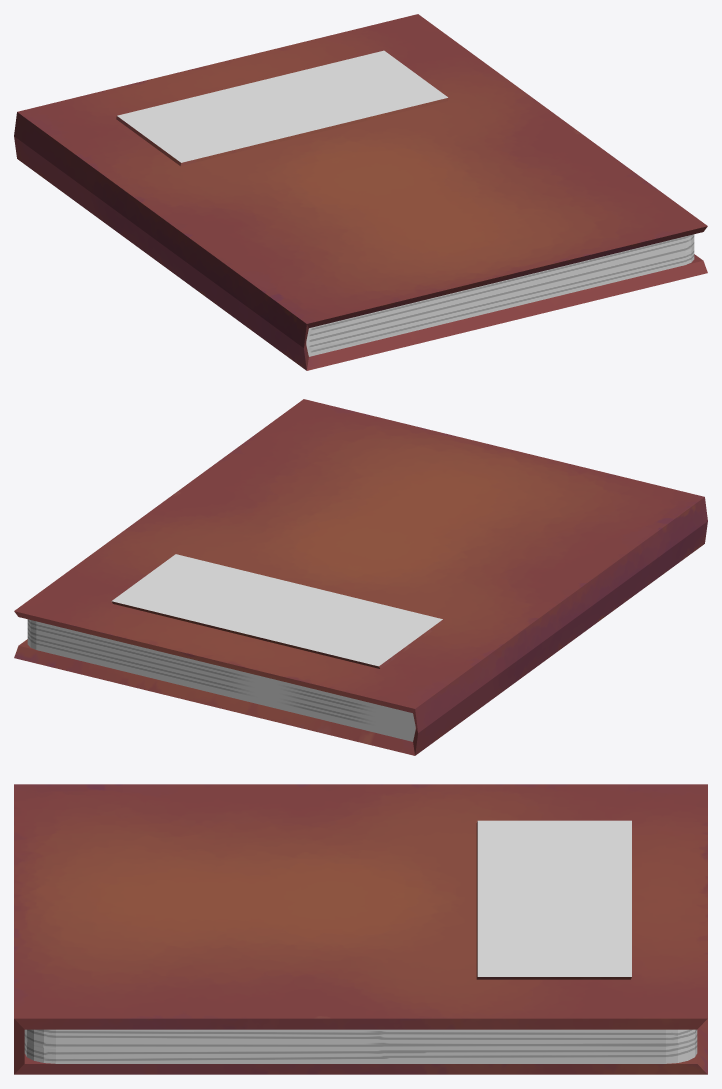
Rendered from Dark_Book.fbx.
The picture shows the model from 3 angles, top to bottom: view 1: azimuth 30°, elevation 25°; view 2: azimuth 150°, elevation 25°; view 3: azimuth 270°, elevation 25°; orthographic projection. The views are drawn at different scales.
Parts seen in each view (by area): view 1: book.001, book inside.001; view 2: book.001, book inside.001; view 3: book.001, book inside.001.
Boxes of the visible parts, box(x1,y1,x2,y2) form: book.001: box(14, 14, 707, 370); book inside.001: box(306, 234, 694, 356); book.001: box(14, 399, 707, 755); book inside.001: box(27, 619, 415, 741); book.001: box(14, 784, 707, 1074); book inside.001: box(24, 1029, 697, 1063).
Size of the model in its own units: 106 by 12.39 by 131.
3 materials, 2 textured.
